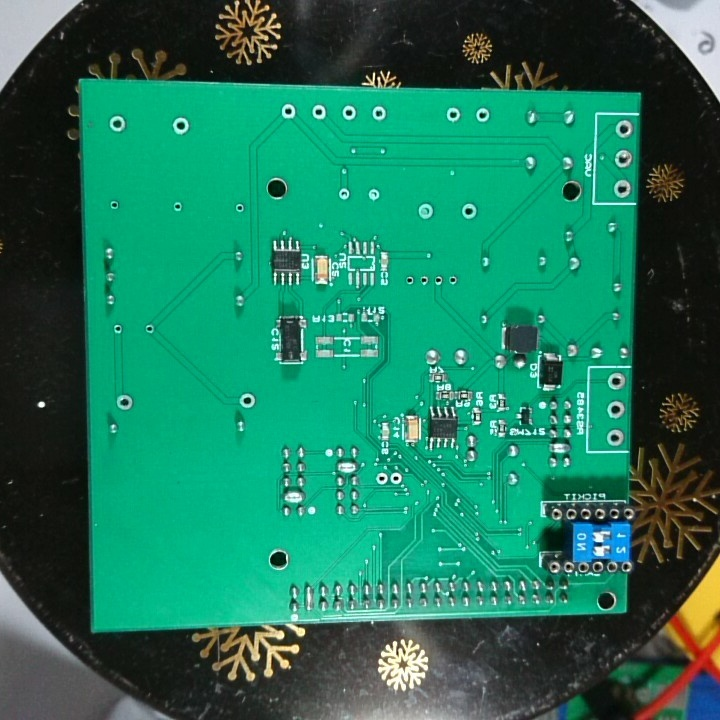F: (168, 112, 193, 138), (107, 112, 132, 138), (604, 371, 629, 395), (613, 146, 636, 172), (236, 388, 260, 412), (413, 198, 436, 223), (113, 391, 138, 413), (604, 399, 626, 422), (458, 201, 480, 223), (604, 425, 624, 449), (615, 117, 634, 142), (278, 100, 299, 122), (613, 176, 633, 198), (370, 103, 390, 125), (341, 103, 362, 123), (443, 105, 463, 126), (389, 467, 407, 490), (307, 102, 328, 121), (473, 106, 492, 126), (373, 468, 390, 490), (335, 186, 353, 206), (365, 186, 382, 206), (107, 198, 124, 216), (445, 272, 460, 292), (433, 271, 446, 292), (110, 322, 127, 338), (170, 199, 187, 215), (141, 322, 159, 337), (418, 271, 430, 291), (404, 272, 416, 289), (231, 200, 246, 212)
P: (301, 583, 316, 616), (546, 440, 574, 456), (281, 489, 309, 503), (335, 460, 361, 475)
